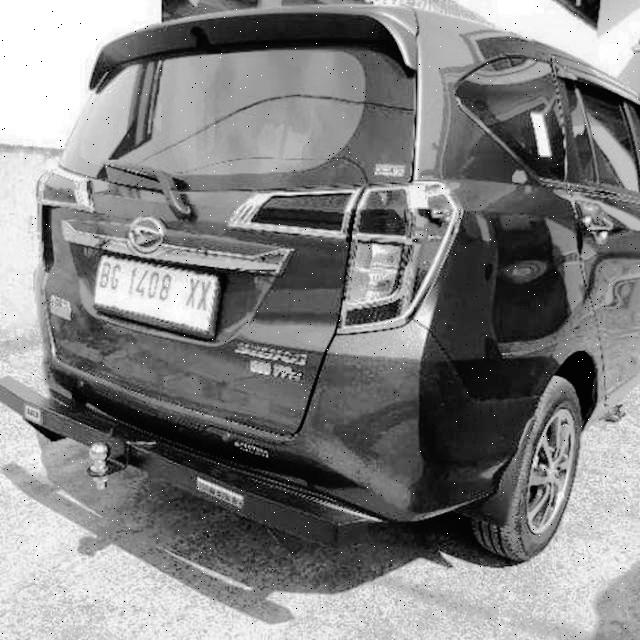Car: (6, 14, 492, 554)
